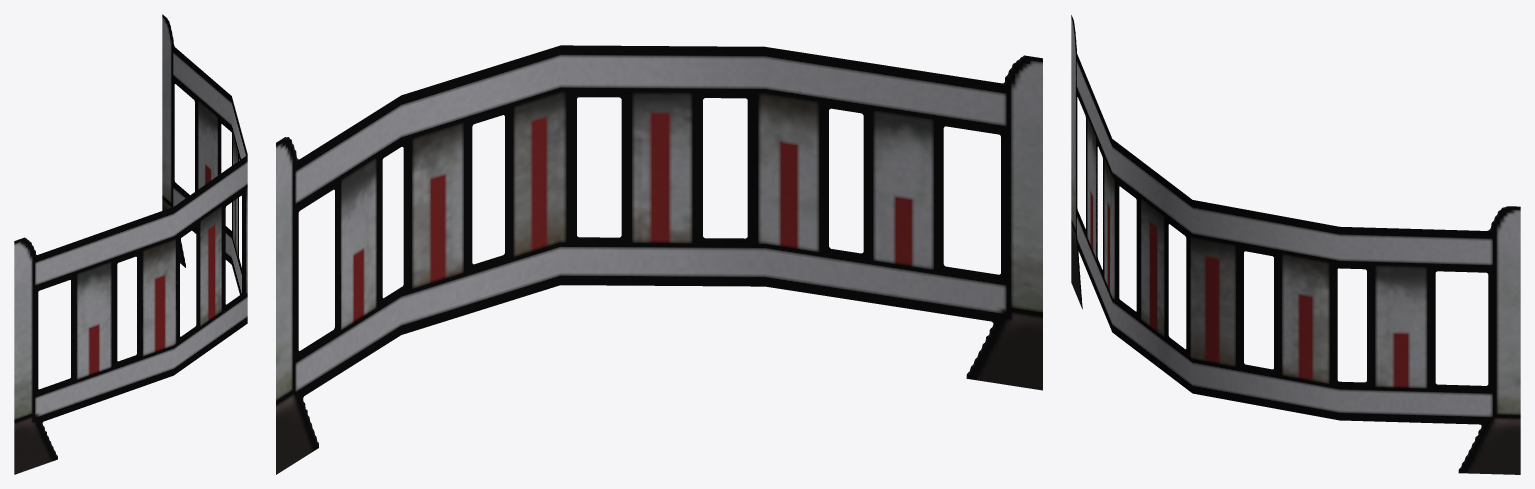
The model's file is railing_02.FBX.
3 renders of one model, left to right at view 1: azimuth 30°, elevation 25°; view 2: azimuth 150°, elevation 25°; view 3: azimuth 270°, elevation 25°, orthographic. The views are drawn at different scales.
Parts seen in each view (by area): view 1: railing_02; view 2: railing_02; view 3: railing_02.
Boxes of the visible parts, left/top/right/bottom form: railing_02: left=14, top=14, right=247, bottom=474; railing_02: left=276, top=45, right=1042, bottom=474; railing_02: left=1071, top=15, right=1520, bottom=474.
Size of the model in its own units: 230 by 150 by 227.
